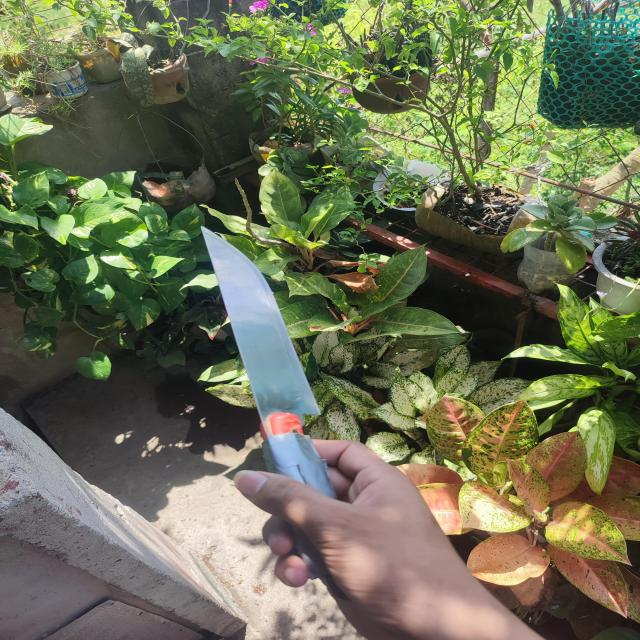knife: (201, 226, 335, 497)
